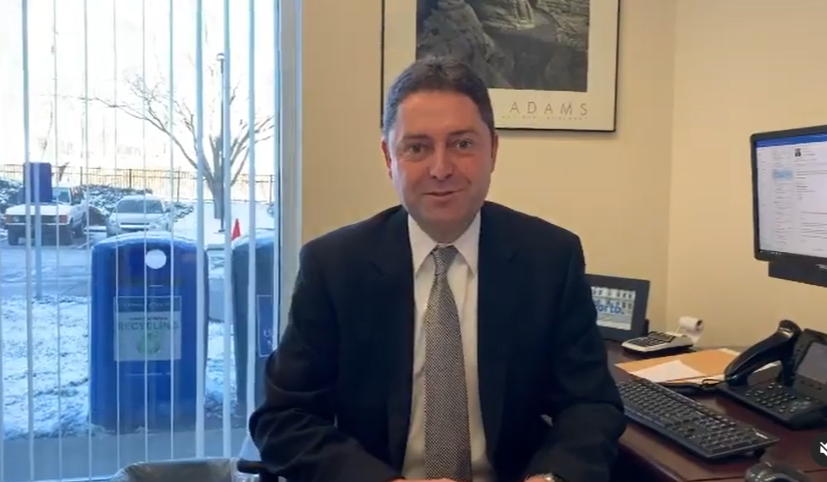Staff: (327, 40, 583, 349)
